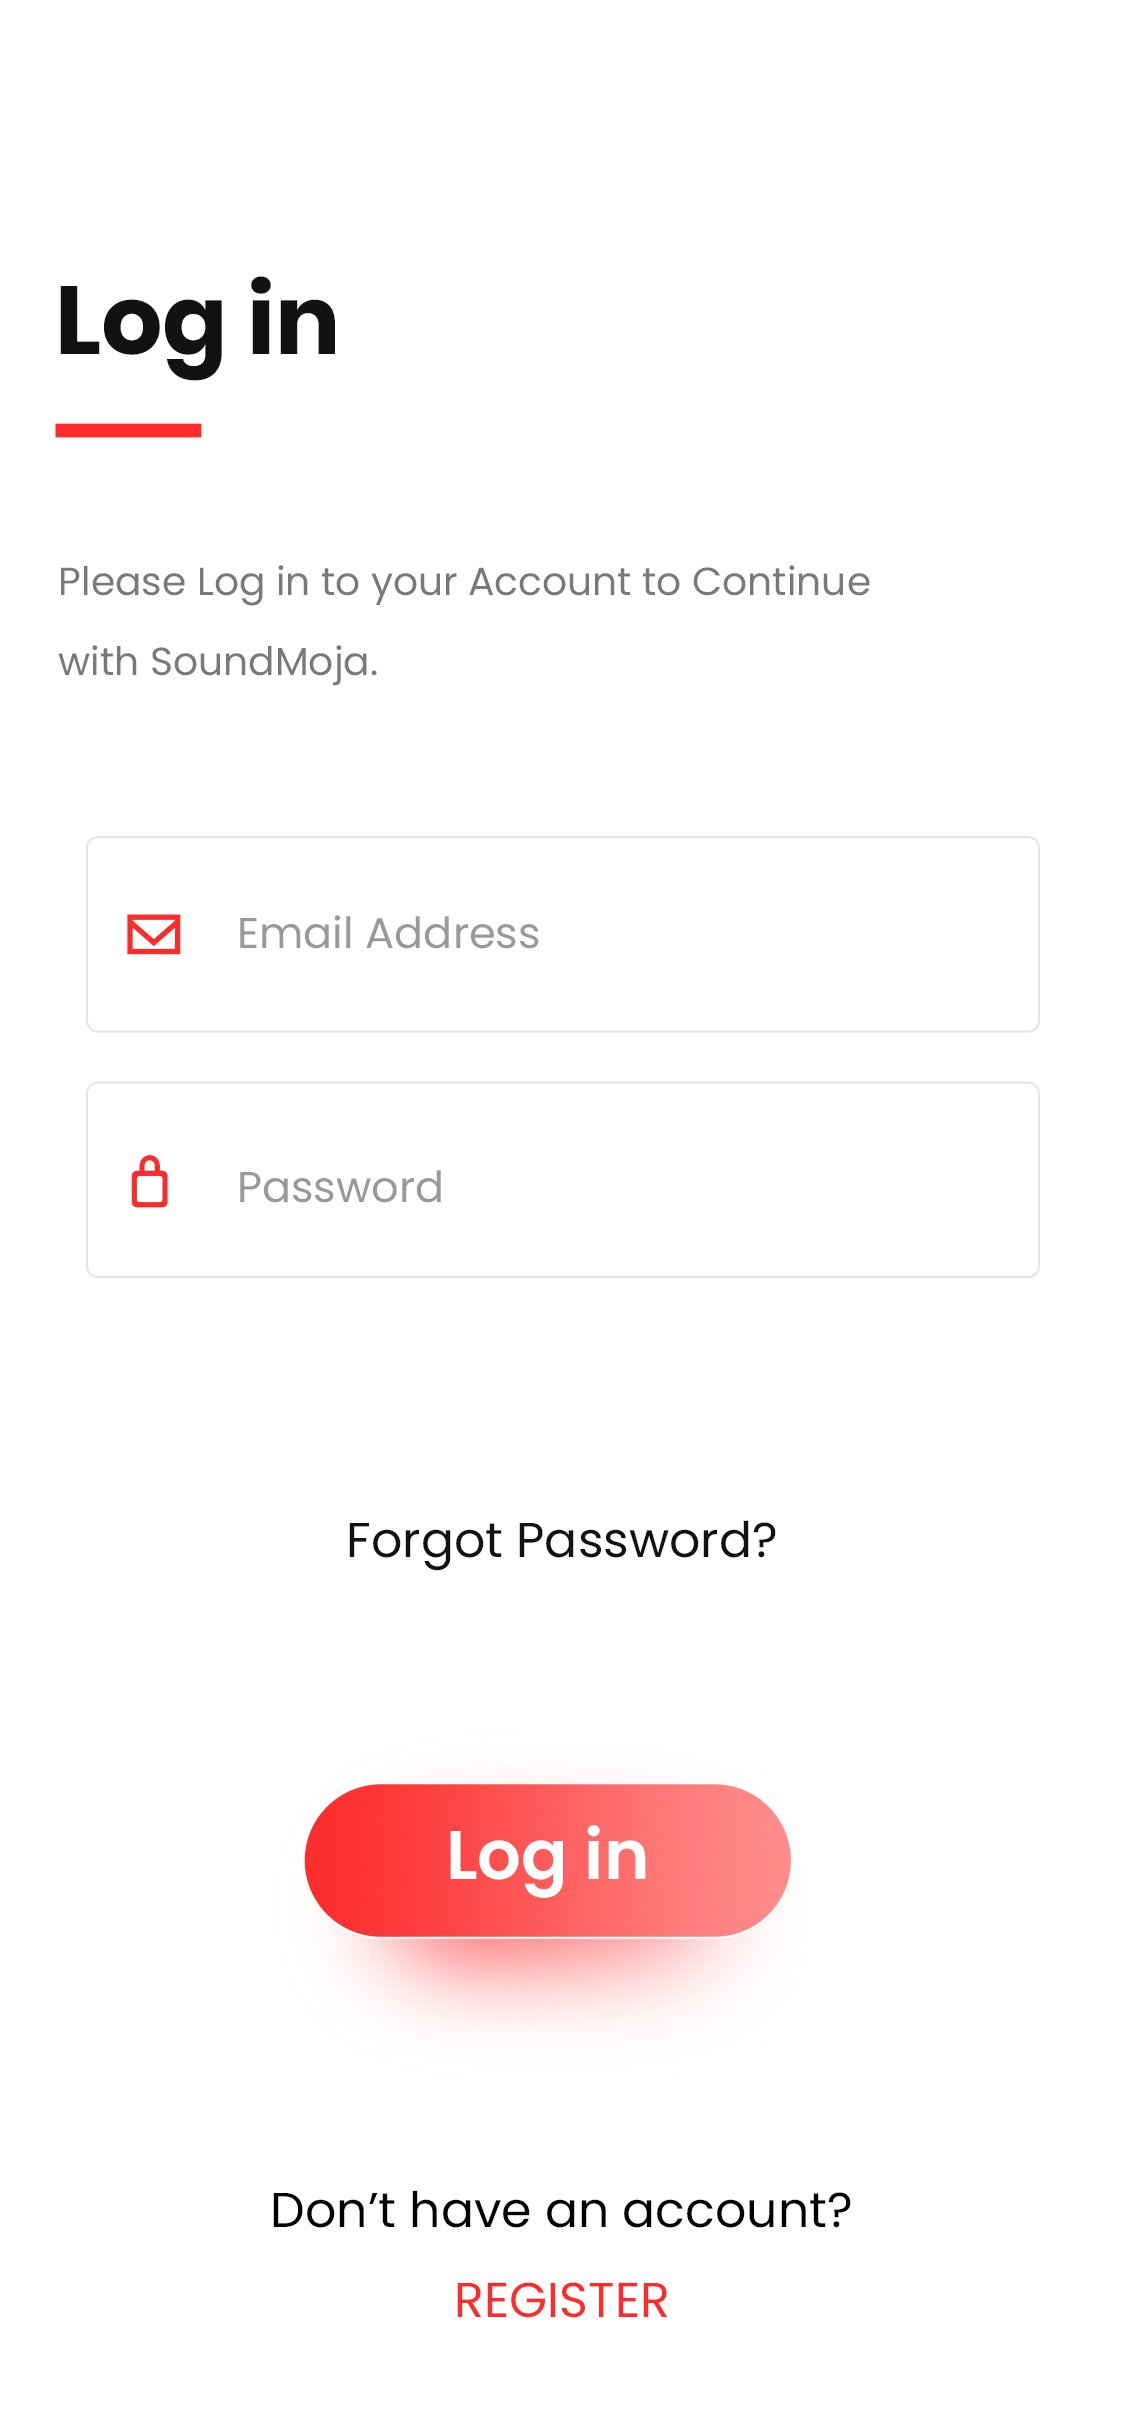EditText: (85, 836, 1041, 1035), (85, 1081, 1041, 1279)
Icon: (127, 913, 182, 955), (132, 1154, 169, 1209)
Text: (57, 564, 872, 688), (61, 277, 337, 382), (350, 1519, 777, 1572), (273, 2191, 852, 2229), (239, 915, 541, 949), (457, 2281, 668, 2319), (239, 1168, 443, 1204)
TextButton: (305, 1783, 792, 1939)
